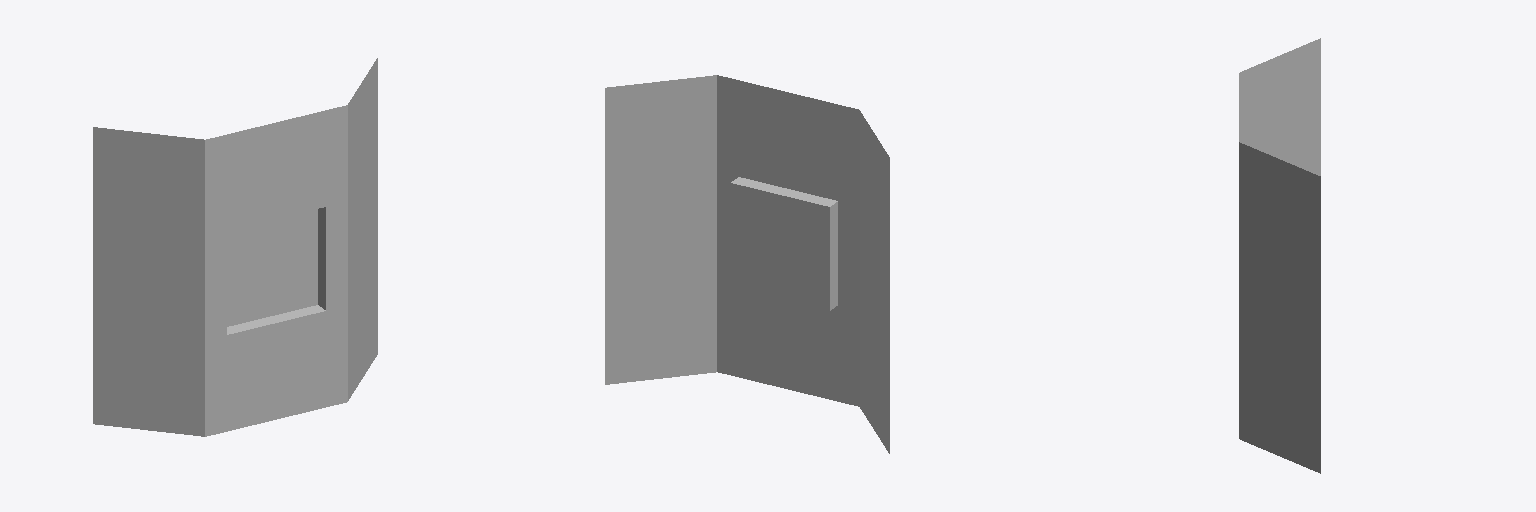
The model's file is wall_windowF.obj.
The picture shows the model from 3 angles: view 1: azimuth 30°, elevation 25°; view 2: azimuth 150°, elevation 25°; view 3: azimuth 270°, elevation 25°; orthographic projection.
Visible parts, largest first — view 1: wall_windowF; view 2: wall_windowF; view 3: wall_windowF.
Part boxes in pixels (bbox=[...]): wall_windowF: bbox=[93, 58, 377, 436]; wall_windowF: bbox=[605, 75, 889, 453]; wall_windowF: bbox=[1239, 38, 1320, 473].
Bounding box in the file's own units: 0.4 × 0.4 × 0.1.